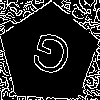G: (24, 29, 76, 87)
